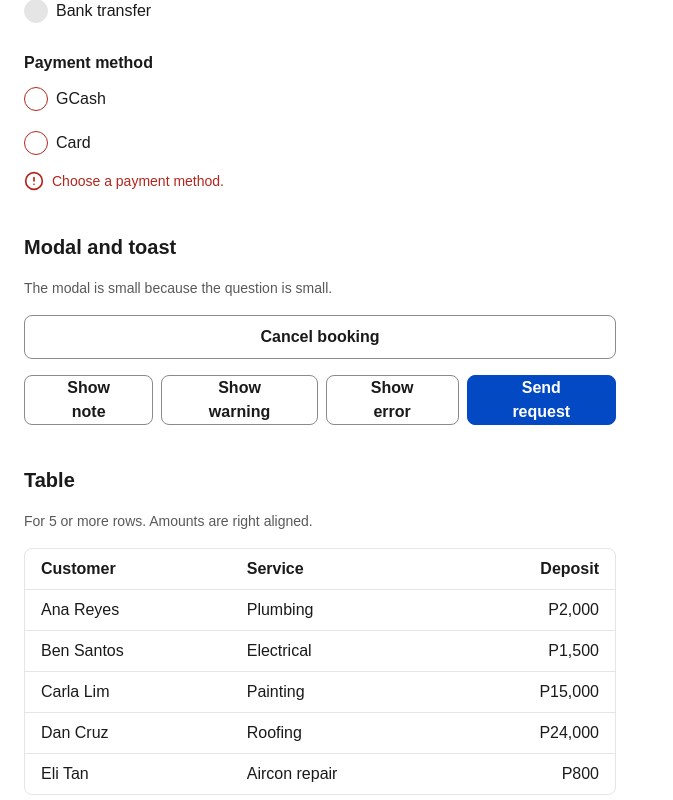
Test: component gallery (/dev/components) › a toast shows up when its button is pressed
(page scrolled)
Click the button "Send request" at {"x": 541, "y": 400}, box [467,375,616,425]
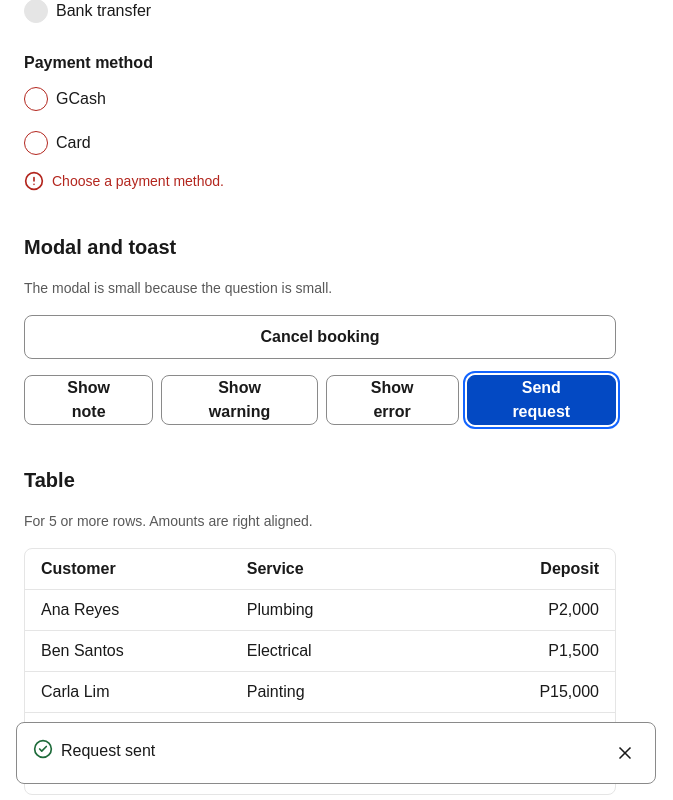
Expected: the text "Request sent" is shown, [60,741,155,759]
